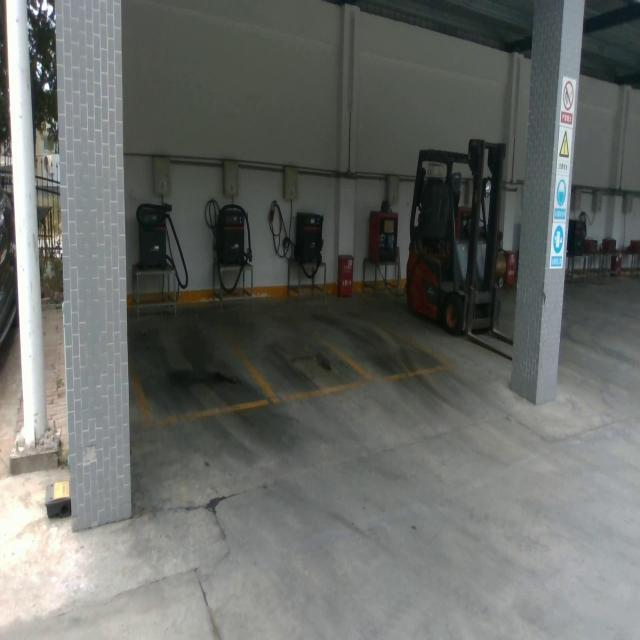forklift: (404, 135, 515, 364)
